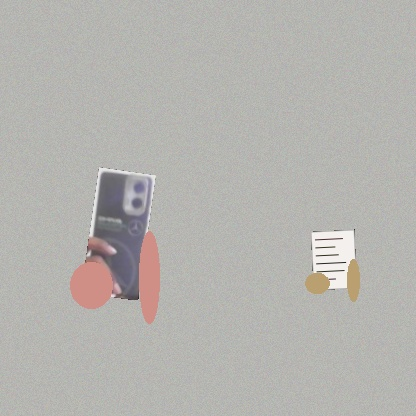cell_phone: (81, 167, 156, 300)
cheat_chit: (311, 229, 357, 290)
